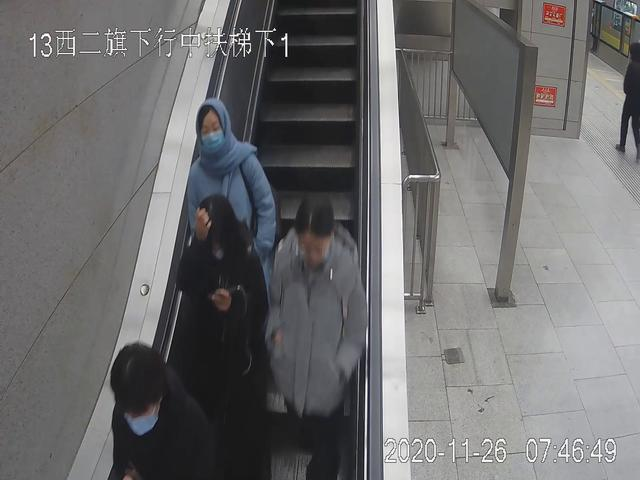person: (188, 96, 276, 466), (270, 191, 366, 480), (176, 196, 266, 480), (110, 343, 223, 480)
